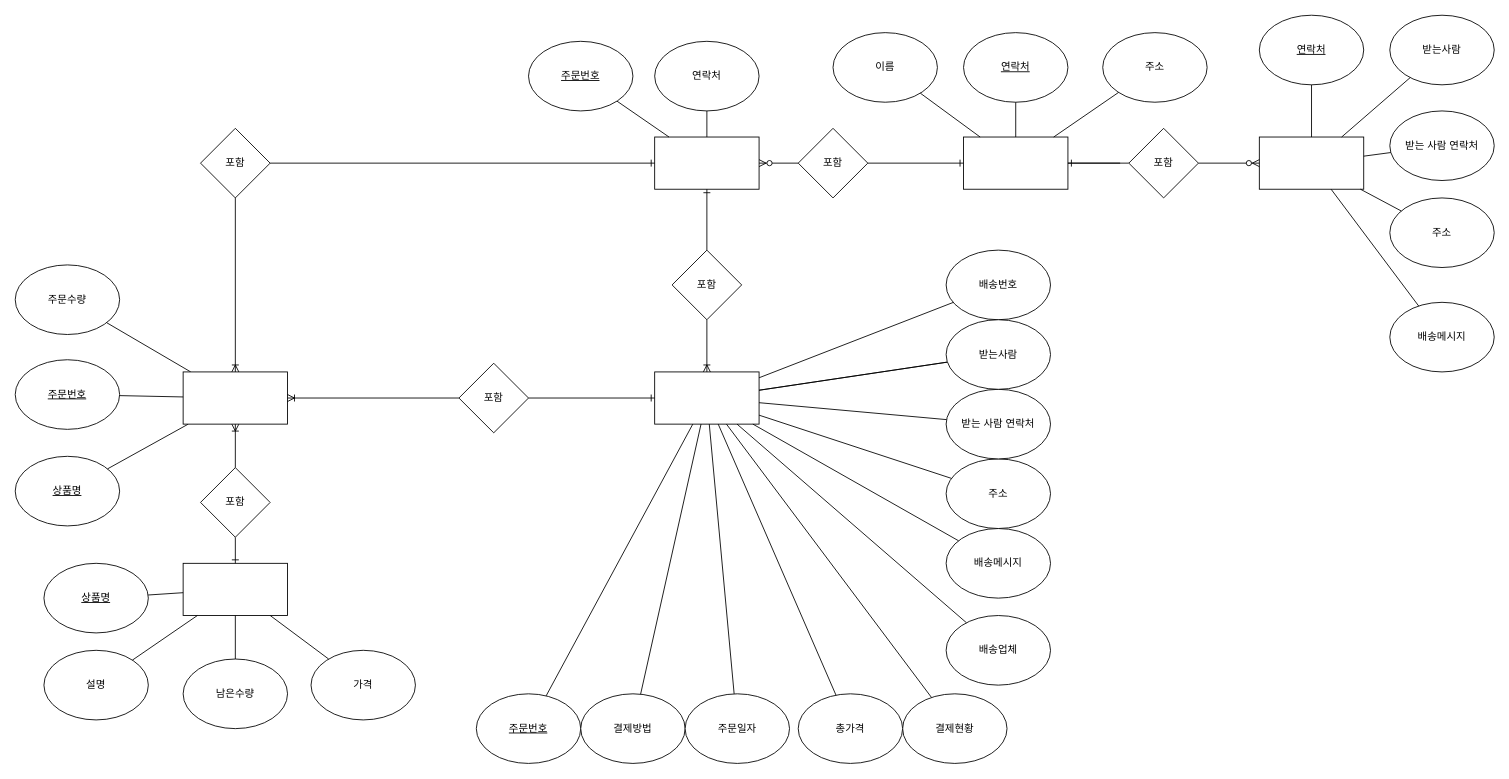
This 1509x779 diagram has some shape labels left out. Here are the shapes that lost their labels. From the top down, the box of each, then its label:
(654, 136, 759, 189): 주문내역
(963, 136, 1068, 189): 회원
(1258, 136, 1364, 189): 기존 배송지
(182, 371, 288, 424): 주문상품
(654, 371, 759, 424): 주문정보
(182, 562, 288, 616): 상품정보
